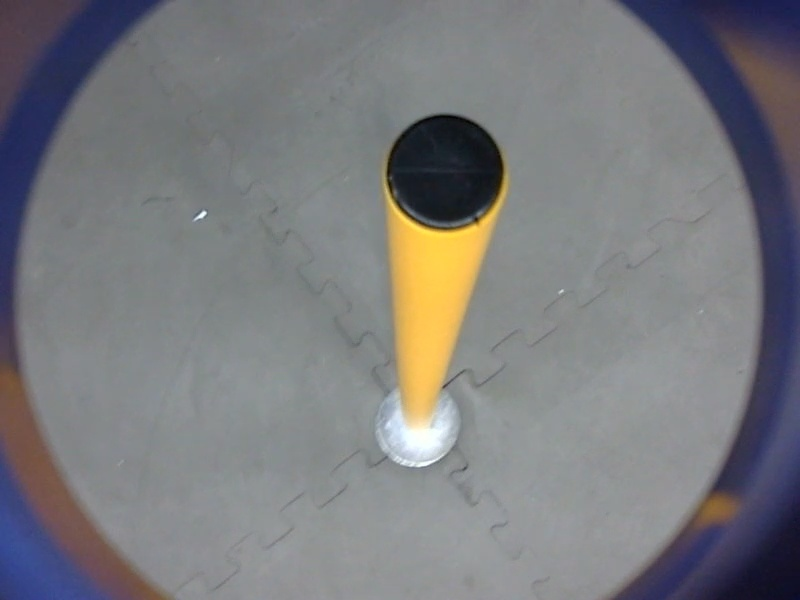tip: (379, 107, 516, 243)
